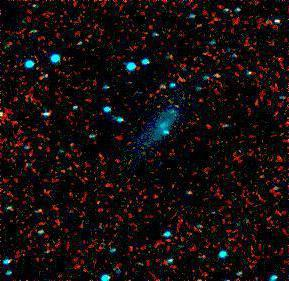star: (157, 93, 187, 123)
